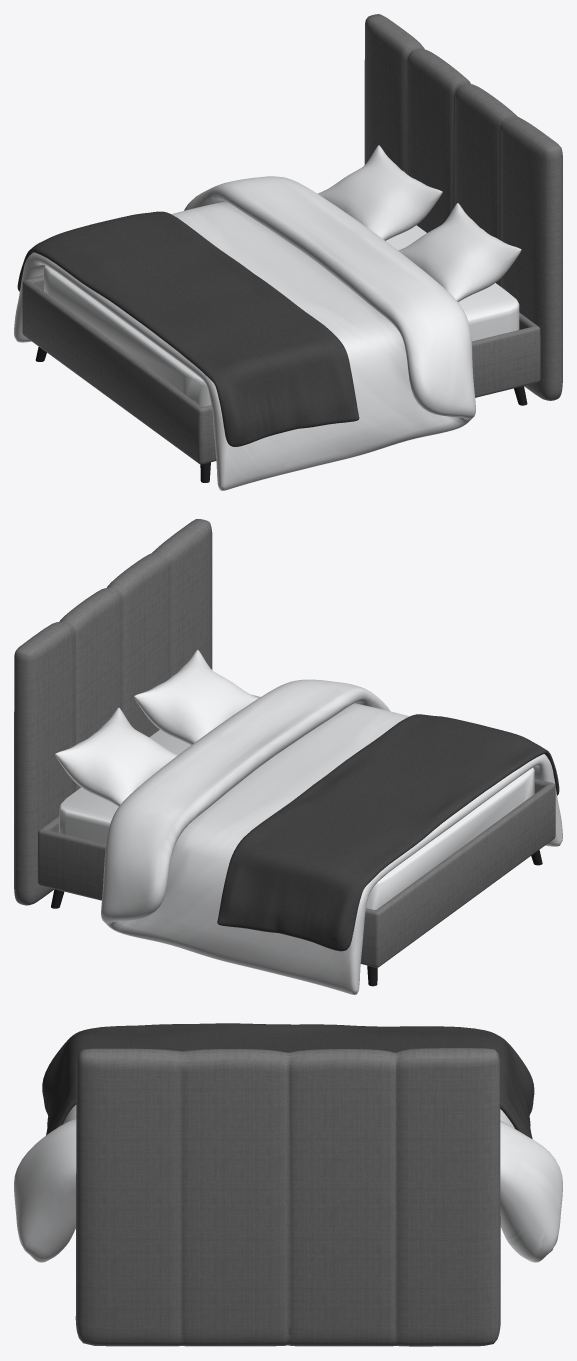
The model's file is Bed_2k.fbx.
3 views of the same model, one above another, from view 1: azimuth 30°, elevation 25°; view 2: azimuth 150°, elevation 25°; view 3: azimuth 270°, elevation 25° (orthographic). The views are drawn at different scales.
Visible parts, largest first — view 1: OBJ_Bed_Blanket, OBJ_Bed_Body; view 2: OBJ_Bed_Blanket, OBJ_Bed_Body; view 3: OBJ_Bed_Body, OBJ_Bed_Blanket.
Boxes of the visible parts, box(x1,y1,x2,y2) form: OBJ_Bed_Blanket: box(14, 145, 521, 490); OBJ_Bed_Body: box(22, 14, 562, 482); OBJ_Bed_Blanket: box(55, 649, 562, 994); OBJ_Bed_Body: box(14, 519, 555, 986); OBJ_Bed_Body: box(75, 1048, 500, 1346); OBJ_Bed_Blanket: box(14, 1023, 562, 1262).
Size of the model in its own units: 225 by 151 by 256.
